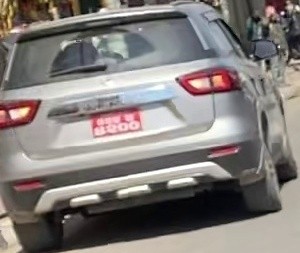license_plate: (90, 110, 142, 138)
